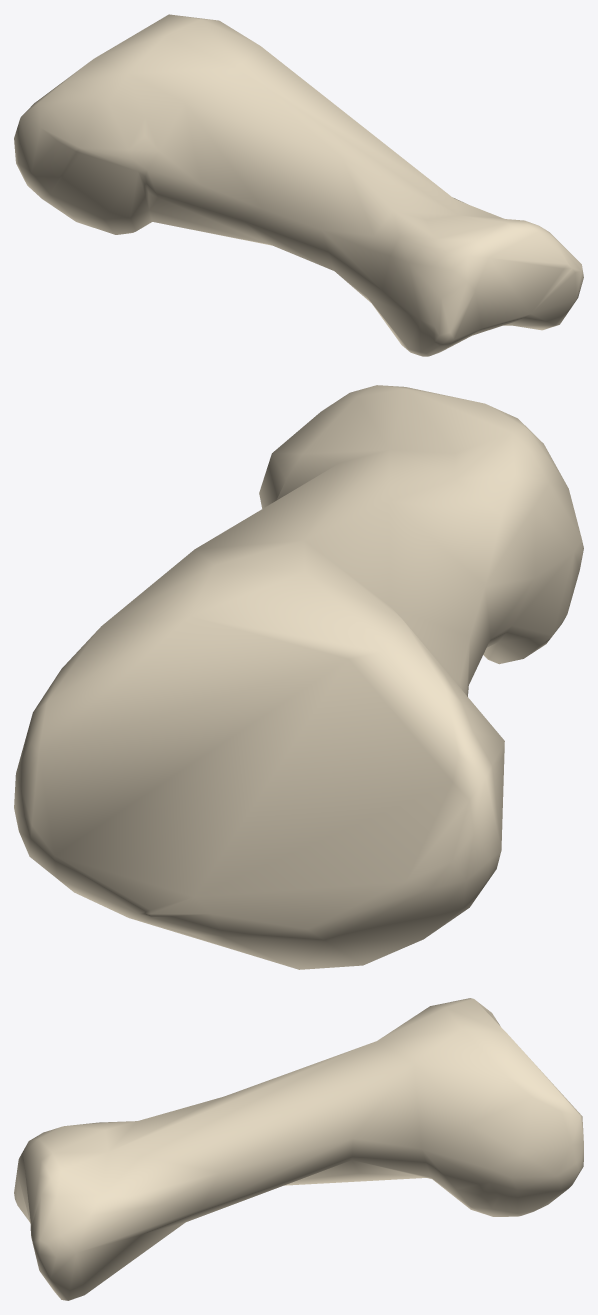
File: proximal-phalanx-of-fifth-finger-of-foot-l.glb
3 views of the same model, one above another, from view 1: azimuth 30°, elevation 25°; view 2: azimuth 150°, elevation 25°; view 3: azimuth 270°, elevation 25° (orthographic). The views are drawn at different scales.
Parts seen in each view (by area): view 1: Proximal phalanx of fifth finger of foot.l; view 2: Proximal phalanx of fifth finger of foot.l; view 3: Proximal phalanx of fifth finger of foot.l.
Boxes of the visible parts, x1,y1,x2,y2 form: Proximal phalanx of fifth finger of foot.l: [14, 14, 583, 356]; Proximal phalanx of fifth finger of foot.l: [14, 385, 583, 969]; Proximal phalanx of fifth finger of foot.l: [14, 998, 583, 1300].
Bounding box in the file's own units: 0.0183 × 0.0104 × 0.0268.
